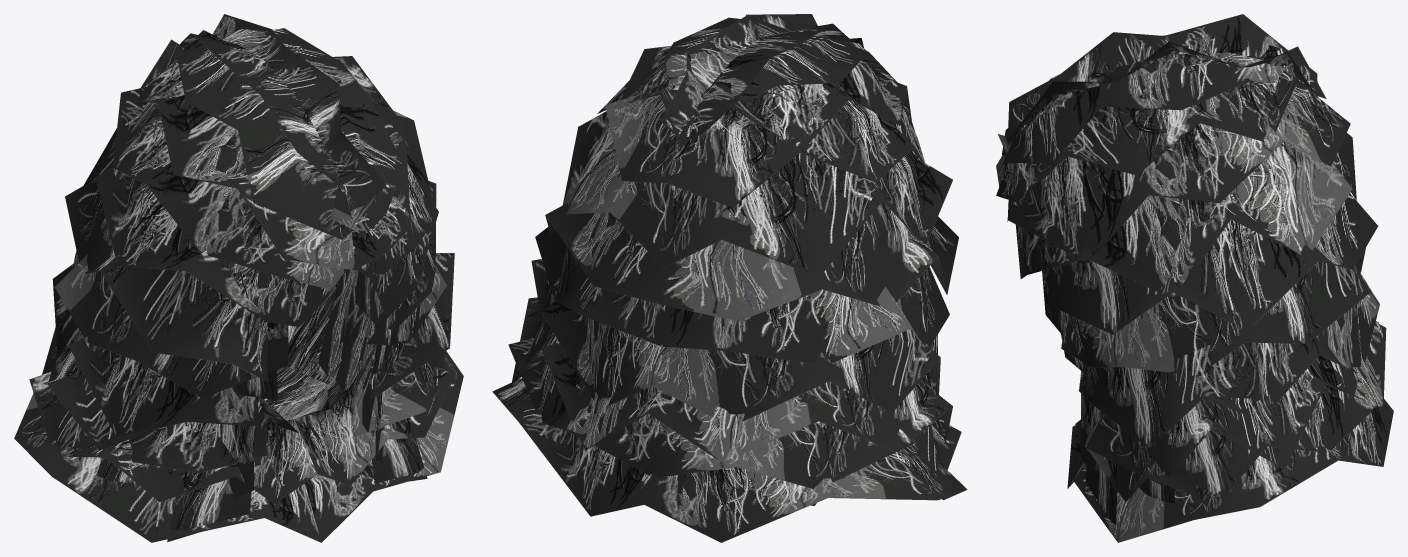
Rendered from SurvivorMale_Head_Hat_Ghillie_LOD0.glb.
3 renders of one model, left to right at view 1: azimuth 30°, elevation 25°; view 2: azimuth 150°, elevation 25°; view 3: azimuth 270°, elevation 25°, orthographic. The views are drawn at different scales.
Visible parts, largest first — view 1: Hoodie; view 2: Hoodie; view 3: Hoodie.
Part boxes in pixels (x1,y1,x2,y2): Hoodie: (14, 14, 463, 542); Hoodie: (492, 14, 967, 542); Hoodie: (996, 14, 1393, 542).
Bounding box in the file's own units: 0.399 × 0.4127 × 0.3269.
1 material, 1 textured.
